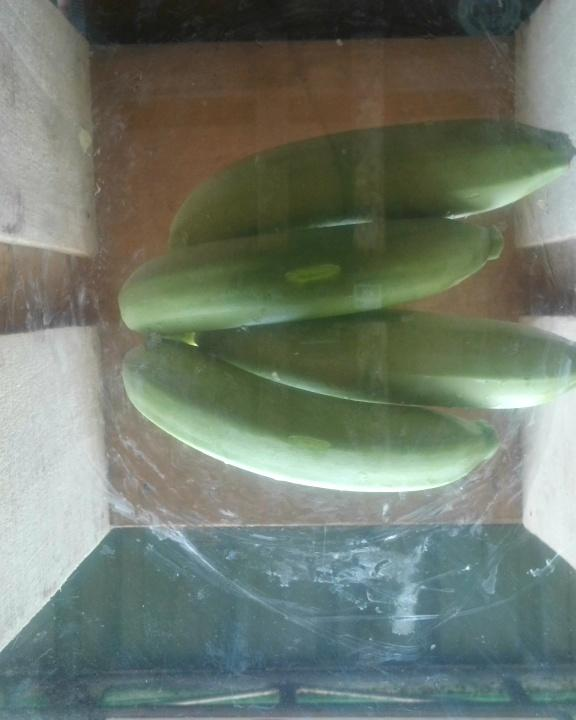SPOT: (119, 121, 576, 500)
